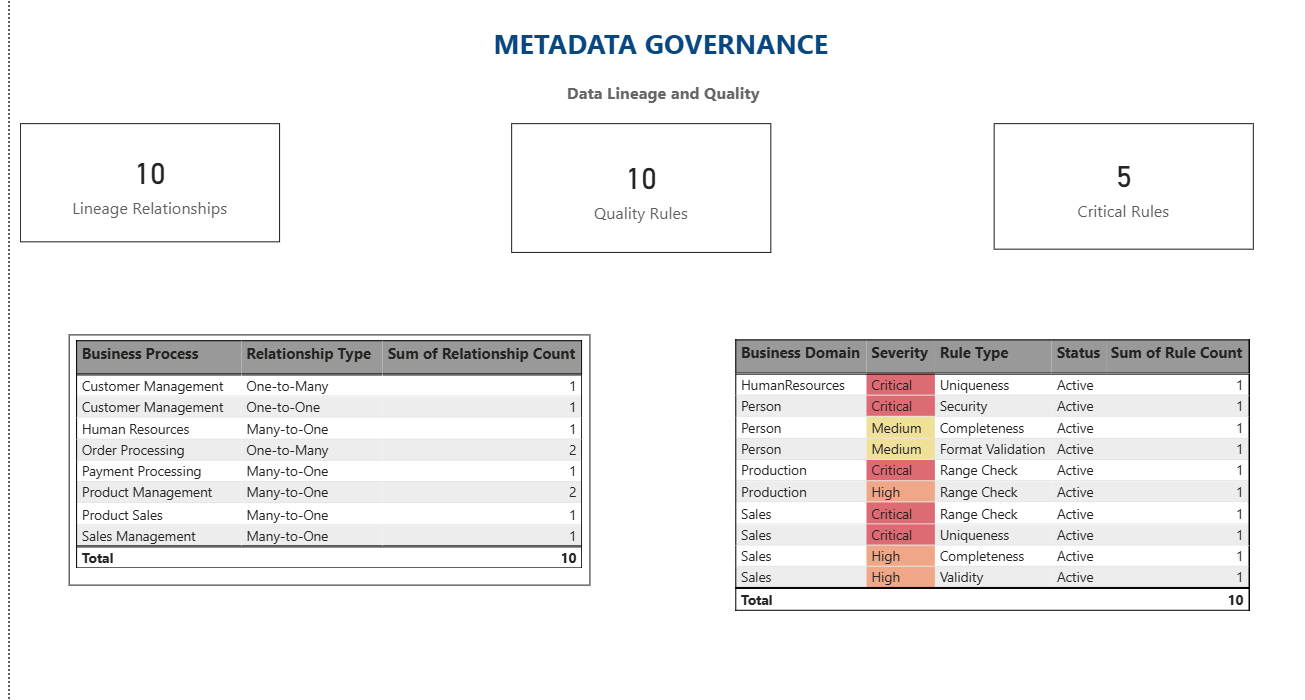

This screenshot's page, from the dashboard's own definition file:
{"tool":"powerbi","page":{"name":"Data Lineage & Quality","canvas":[1280,720],"ordinal":4},"visuals":[{"type":"textbox","box":[10.1,27.4,1258.1,54.8],"z":0},{"type":"textbox","box":[10.1,82.2,1258.1,56.3],"z":1},{"type":"card","fields":{"Values":["vw_DataLineageSummary.Total Lineage Relationships"]},"box":[10.1,128.4,255.4,116.9],"z":2},{"type":"card","fields":{"Values":["vw_DataQualitySummary.Quality Rules"]},"box":[492,128.4,255.4,127],"z":3},{"type":"card","fields":{"Values":["vw_DataQualitySummary.Critical Rules"]},"box":[965.2,128.4,255.4,124.1],"z":4},{"type":"tableEx","fields":{"Values":["vw_DataLineageSummary.BusinessProcess","vw_DataLineageSummary.RelationshipType","Sum(vw_DataLineageSummary.RelationshipCount)"]},"box":[57.7,336.2,512.2,246.7],"z":5},{"type":"tableEx","fields":{"Values":["vw_DataQualitySummary.Business Domain","vw_DataQualitySummary.Severity","vw_DataQualitySummary.RuleType","vw_DataQualitySummary.Status","Sum(vw_DataQualitySummary.RuleCount)"]},"box":[705.5,336.2,519.4,281.3],"z":6}]}

Visuals, with their boxes on the page's 1280x720 design canvas (x1, y1, x2, y2). These are canvas units, not pixel positions in the 1305x700 screenshot, which may show the page scaled, cropped or inside an application window:
textbox: 10,27,1268,82
textbox: 10,82,1268,138
card - vw_DataLineageSummary.Total Lineage Relationships: 10,128,266,245
card - vw_DataQualitySummary.Quality Rules: 492,128,747,255
card - vw_DataQualitySummary.Critical Rules: 965,128,1221,252
tableEx - vw_DataLineageSummary.BusinessProcess x vw_DataLineageSummary.RelationshipType: 58,336,570,583
tableEx - vw_DataQualitySummary.Business Domain x vw_DataQualitySummary.Severity: 706,336,1225,618
